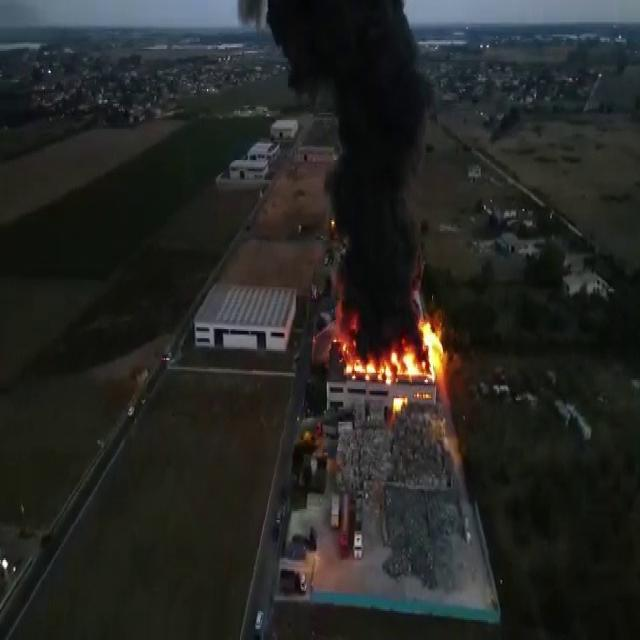Fire: (320, 296, 445, 411)
Smoke: (238, 0, 429, 293)
